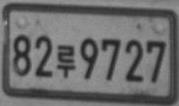2: (125, 39, 144, 82), (34, 35, 52, 76)
7: (146, 40, 166, 83), (101, 38, 121, 80)
8: (12, 34, 31, 77)
9: (79, 37, 98, 79)
루: (56, 44, 76, 78)
